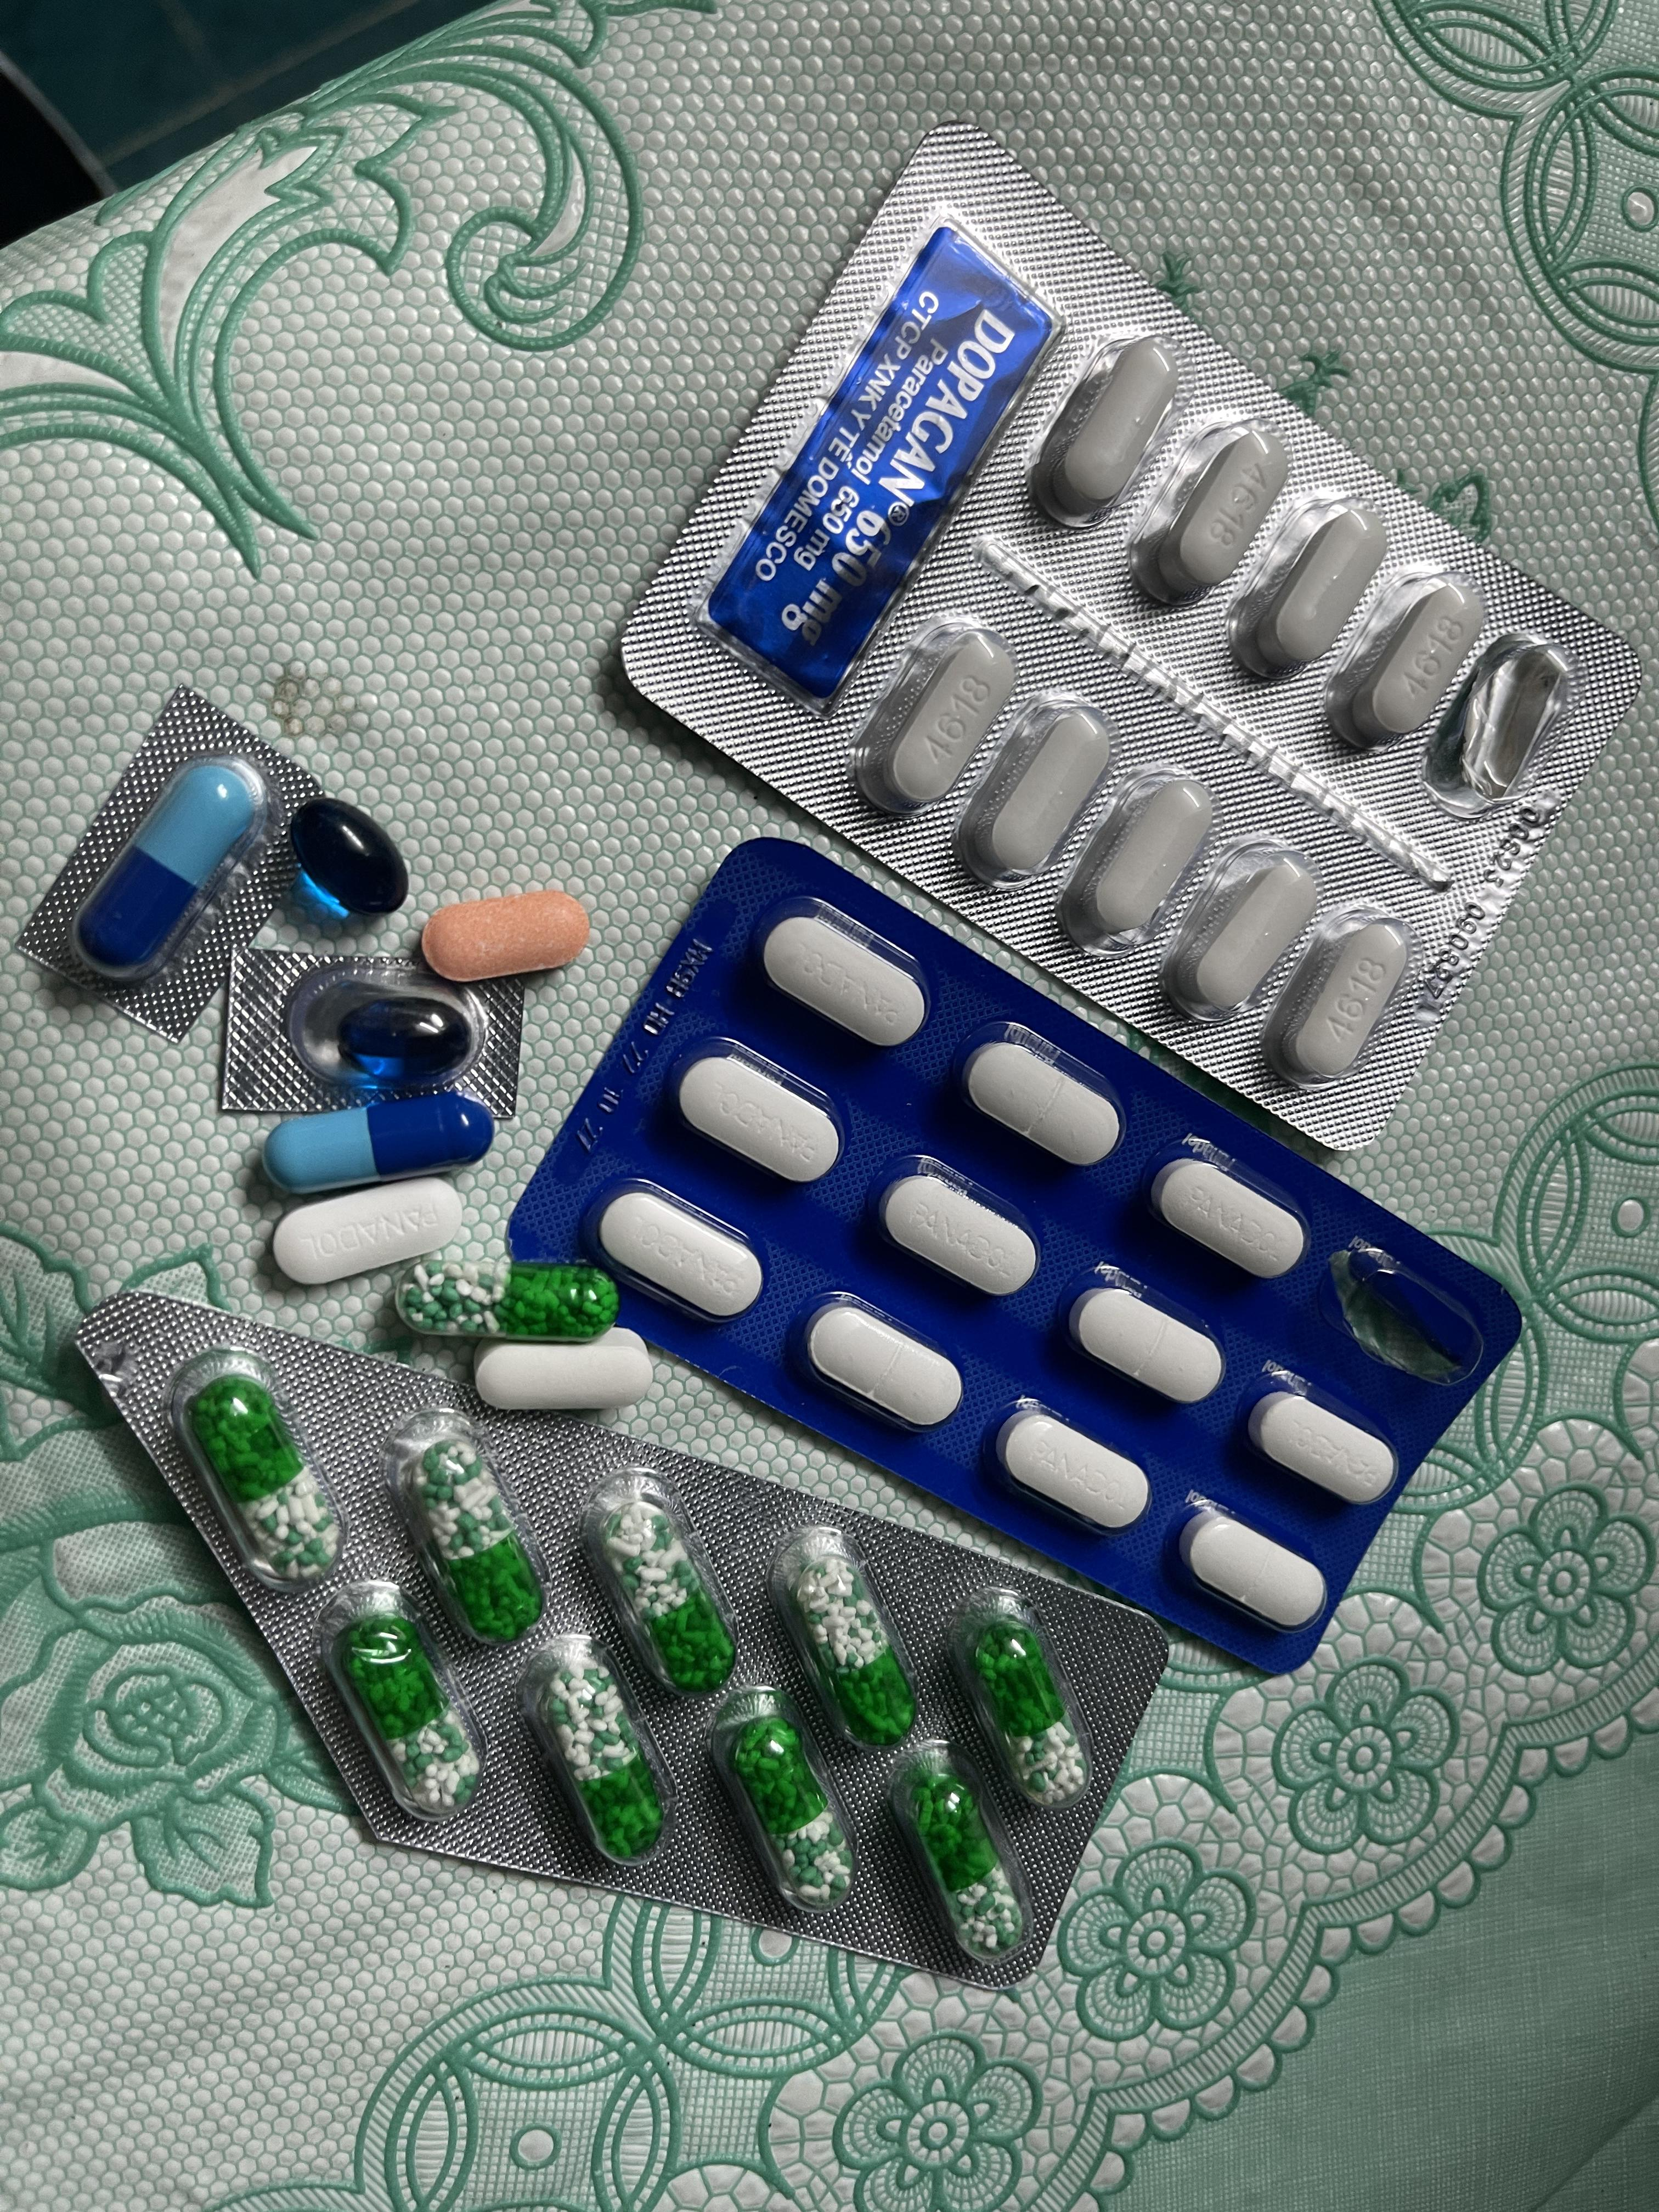Lincomyxin_500mg: (284, 796, 413, 923), (338, 998, 472, 1078)
Loratadine_10mg: (418, 890, 592, 982)
Paracetamol_350mg: (758, 897, 929, 1036), (871, 1157, 1040, 1296), (960, 1029, 1133, 1163), (667, 1043, 833, 1181), (592, 1184, 762, 1318), (793, 1298, 962, 1432), (270, 1176, 472, 1280), (1061, 1273, 1218, 1404), (992, 1404, 1148, 1531), (1243, 1379, 1398, 1507), (1169, 1505, 1321, 1632), (1150, 1158, 1307, 1277)
Paracetamol_500mg: (847, 620, 1012, 815), (957, 697, 1119, 894), (1229, 493, 1394, 685), (1126, 415, 1286, 606), (1321, 566, 1483, 754), (1021, 326, 1175, 523), (1056, 770, 1216, 949), (1161, 836, 1319, 1010), (1267, 913, 1415, 1075), (476, 1329, 653, 1411)
Paracetamol_650mg: (192, 1381, 338, 1576), (340, 1615, 479, 1817), (540, 1656, 667, 1865), (603, 1500, 732, 1693), (725, 1710, 847, 1909), (418, 1442, 542, 1635), (796, 1557, 915, 1743), (974, 1616, 1089, 1803), (908, 1766, 1018, 1951), (392, 1256, 619, 1339)
pill: (70, 756, 274, 982), (265, 1097, 490, 1195)
